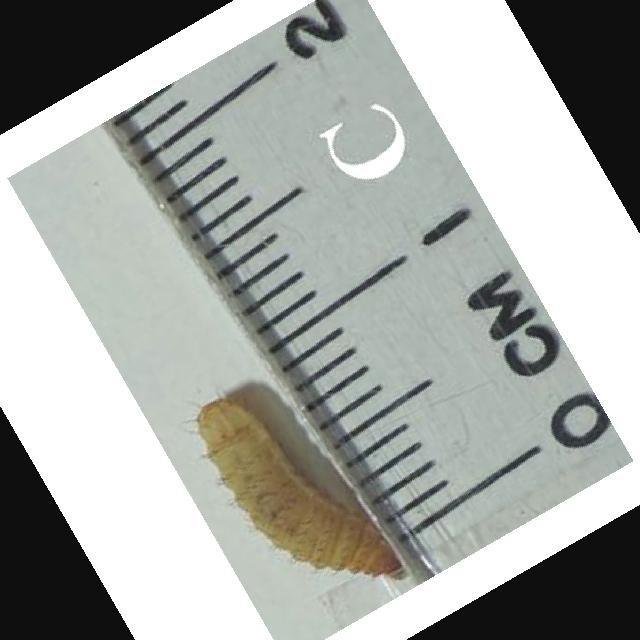Maggot: (192, 398, 404, 583)
